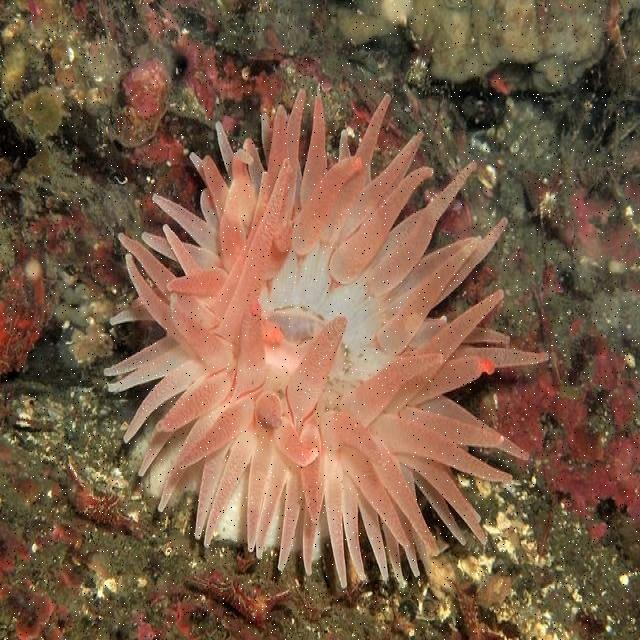reefs: (104, 85, 551, 590)
